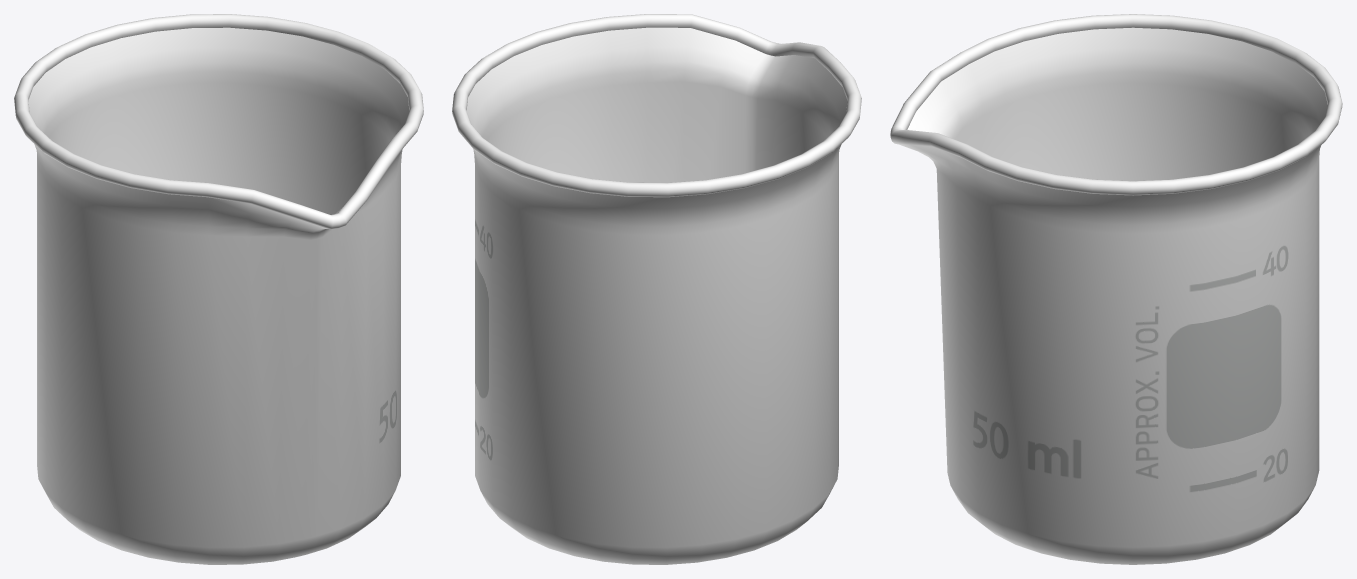
Rendered from beaker_50ml.fbx.
The picture shows the model from 3 angles, left to right: view 1: azimuth 30°, elevation 25°; view 2: azimuth 150°, elevation 25°; view 3: azimuth 270°, elevation 25°; orthographic projection.
Parts seen in each view (by area): view 1: beaker; view 2: beaker; view 3: beaker.
Part boxes in pixels (<box>): beaker: <box>14,14,423,564</box>; beaker: <box>452,14,861,564</box>; beaker: <box>890,14,1342,564</box>.
Size of the model in its own units: 5.5 by 6 by 6.07.
